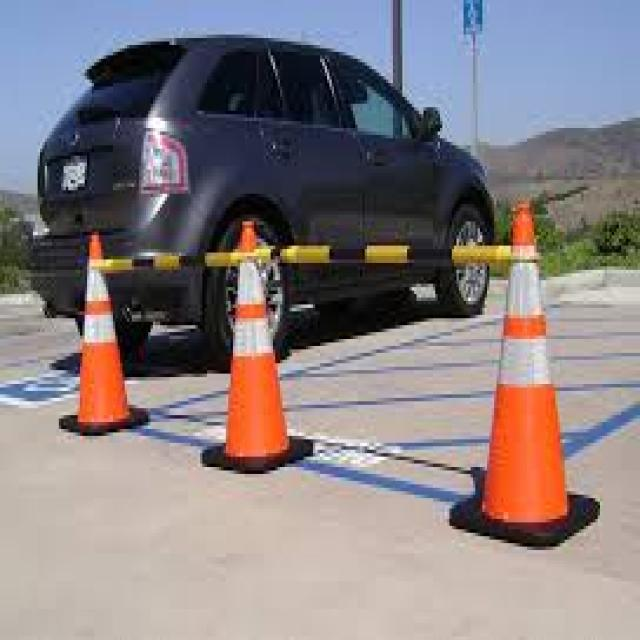cone: (448, 178, 605, 559), (197, 222, 308, 480), (66, 236, 146, 438)
